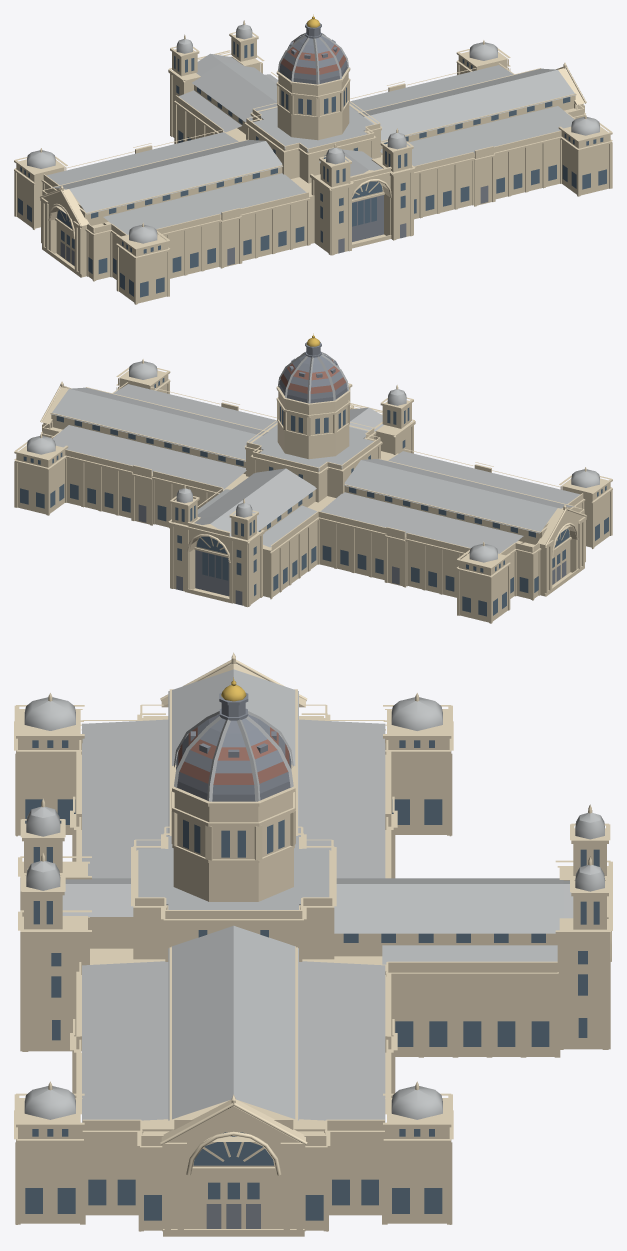
The model's file is melbourne-royal-exhibition-building.glb.
3 views of the same model, one above another, from view 1: azimuth 30°, elevation 25°; view 2: azimuth 150°, elevation 25°; view 3: azimuth 270°, elevation 25° (orthographic). The views are drawn at different scales.
Visible parts, largest first — view 1: Royal Exhibition Building; view 2: Royal Exhibition Building; view 3: Royal Exhibition Building.
Part boxes in pixels (x1=…): Royal Exhibition Building: x1=14, y1=14, x2=612, y2=304; Royal Exhibition Building: x1=14, y1=333, x2=612, y2=623; Royal Exhibition Building: x1=14, y1=652, x2=612, y2=1236.
Size of the model in its own units: 171 by 60.6 by 97.15.
